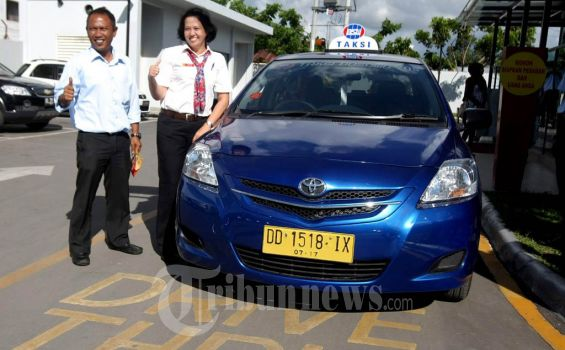plate: (260, 223, 354, 264)
